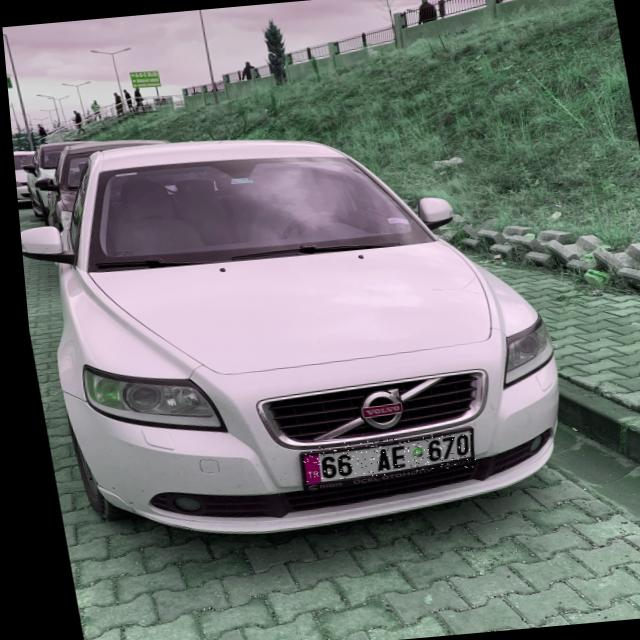license_plate: (290, 431, 469, 482)
